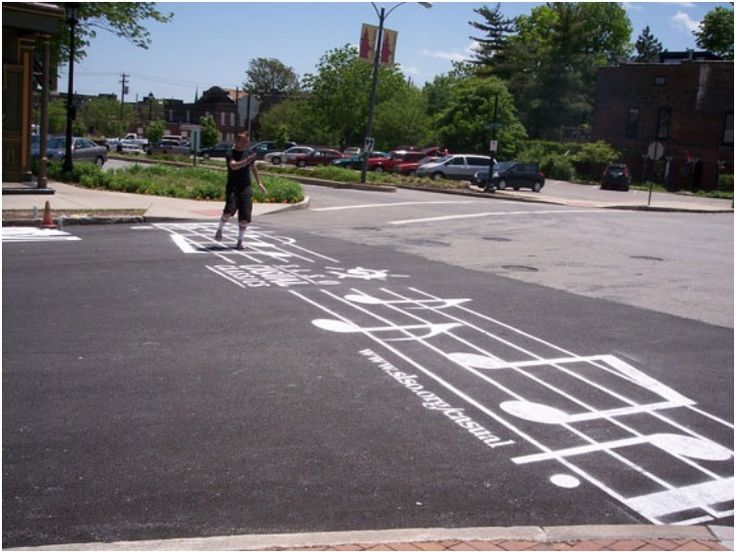pedestrian: (210, 124, 262, 253)
